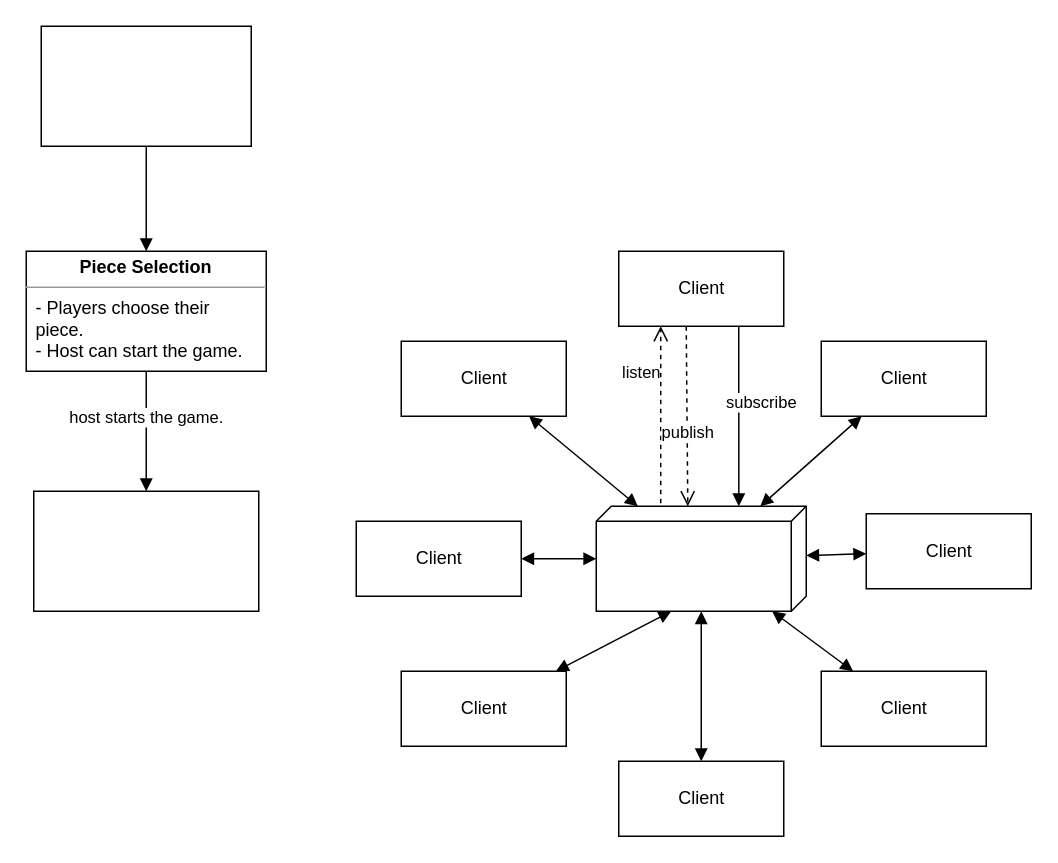
This 1058x863 diagram has some shape labels left out. Each missing label, with the centre of its shape:
Game: (145,550)
Lobby - Host creates room. - Guests join room.: (145,85)
Pubnub: (700,558)
